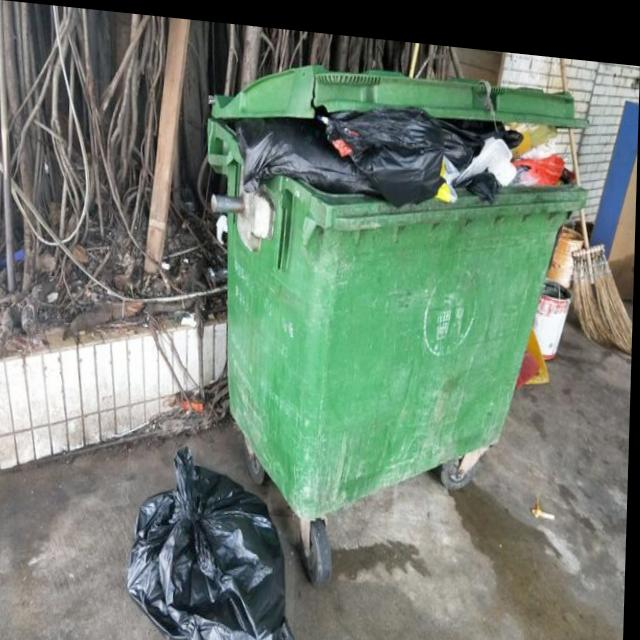garbage: (126, 434, 301, 640)
overflow: (198, 47, 590, 534)
